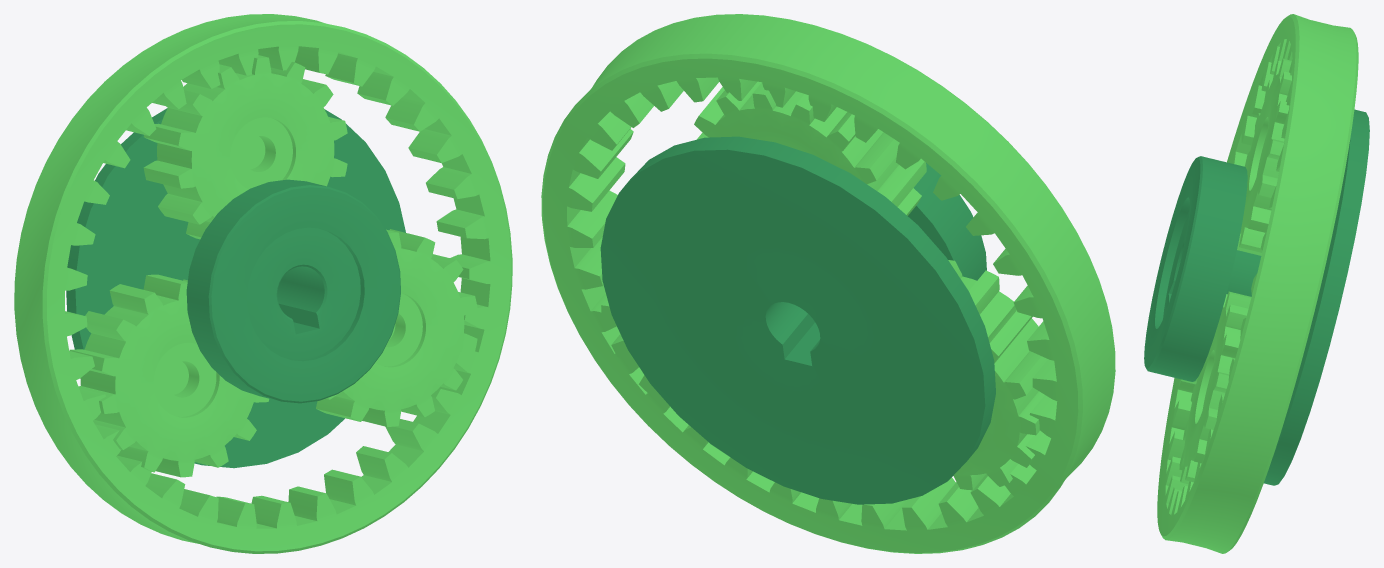
The model's file is methods_02.glb.
The picture shows the model from 3 angles, left to right: view 1: azimuth 30°, elevation 25°; view 2: azimuth 150°, elevation 25°; view 3: azimuth 270°, elevation 25°; orthographic projection. The views are drawn at different scales.
Parts seen in each view (by area): view 1: gear_04.001, shaft, gear_01.001, gear_02.001, gear_03.001; view 2: shaft, gear_04.001, gear_02.001, gear_01.001; view 3: gear_04.001, shaft, gear_02.001, gear_03.001.
Boxes of the visible parts, x1,y1,x2,y2 form: gear_04.001: (14,14,512,553); shaft: (66,108,405,468); gear_01.001: (69,274,269,477); gear_02.001: (143,55,347,239); gear_03.001: (316,229,477,426); shaft: (600,136,995,504); gear_04.001: (541,14,1115,553); gear_02.001: (694,81,926,215); gear_01.001: (948,260,1047,490); gear_04.001: (1157,14,1358,553); shaft: (1144,109,1369,485); gear_02.001: (1237,58,1291,255); gear_03.001: (1179,291,1251,484).
Bounding box in the file's own units: 1.19 × 1.18 × 0.4957.
